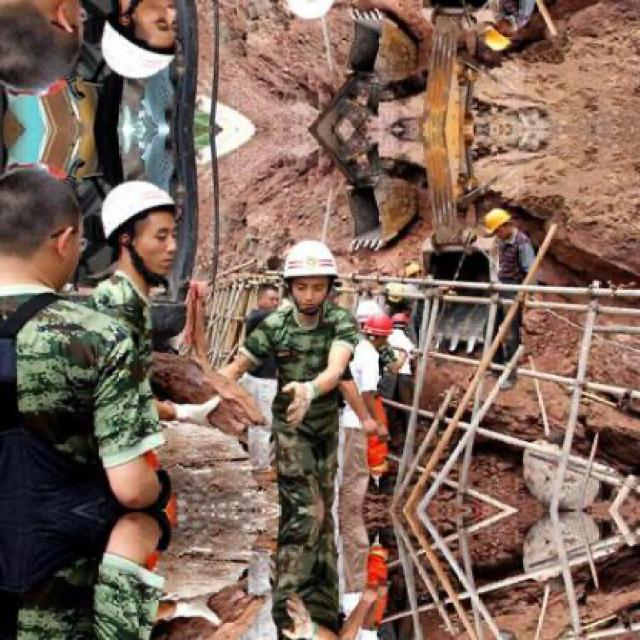con casco: (78, 182, 195, 267), (251, 244, 368, 324)
sin casco: (0, 174, 126, 322)
